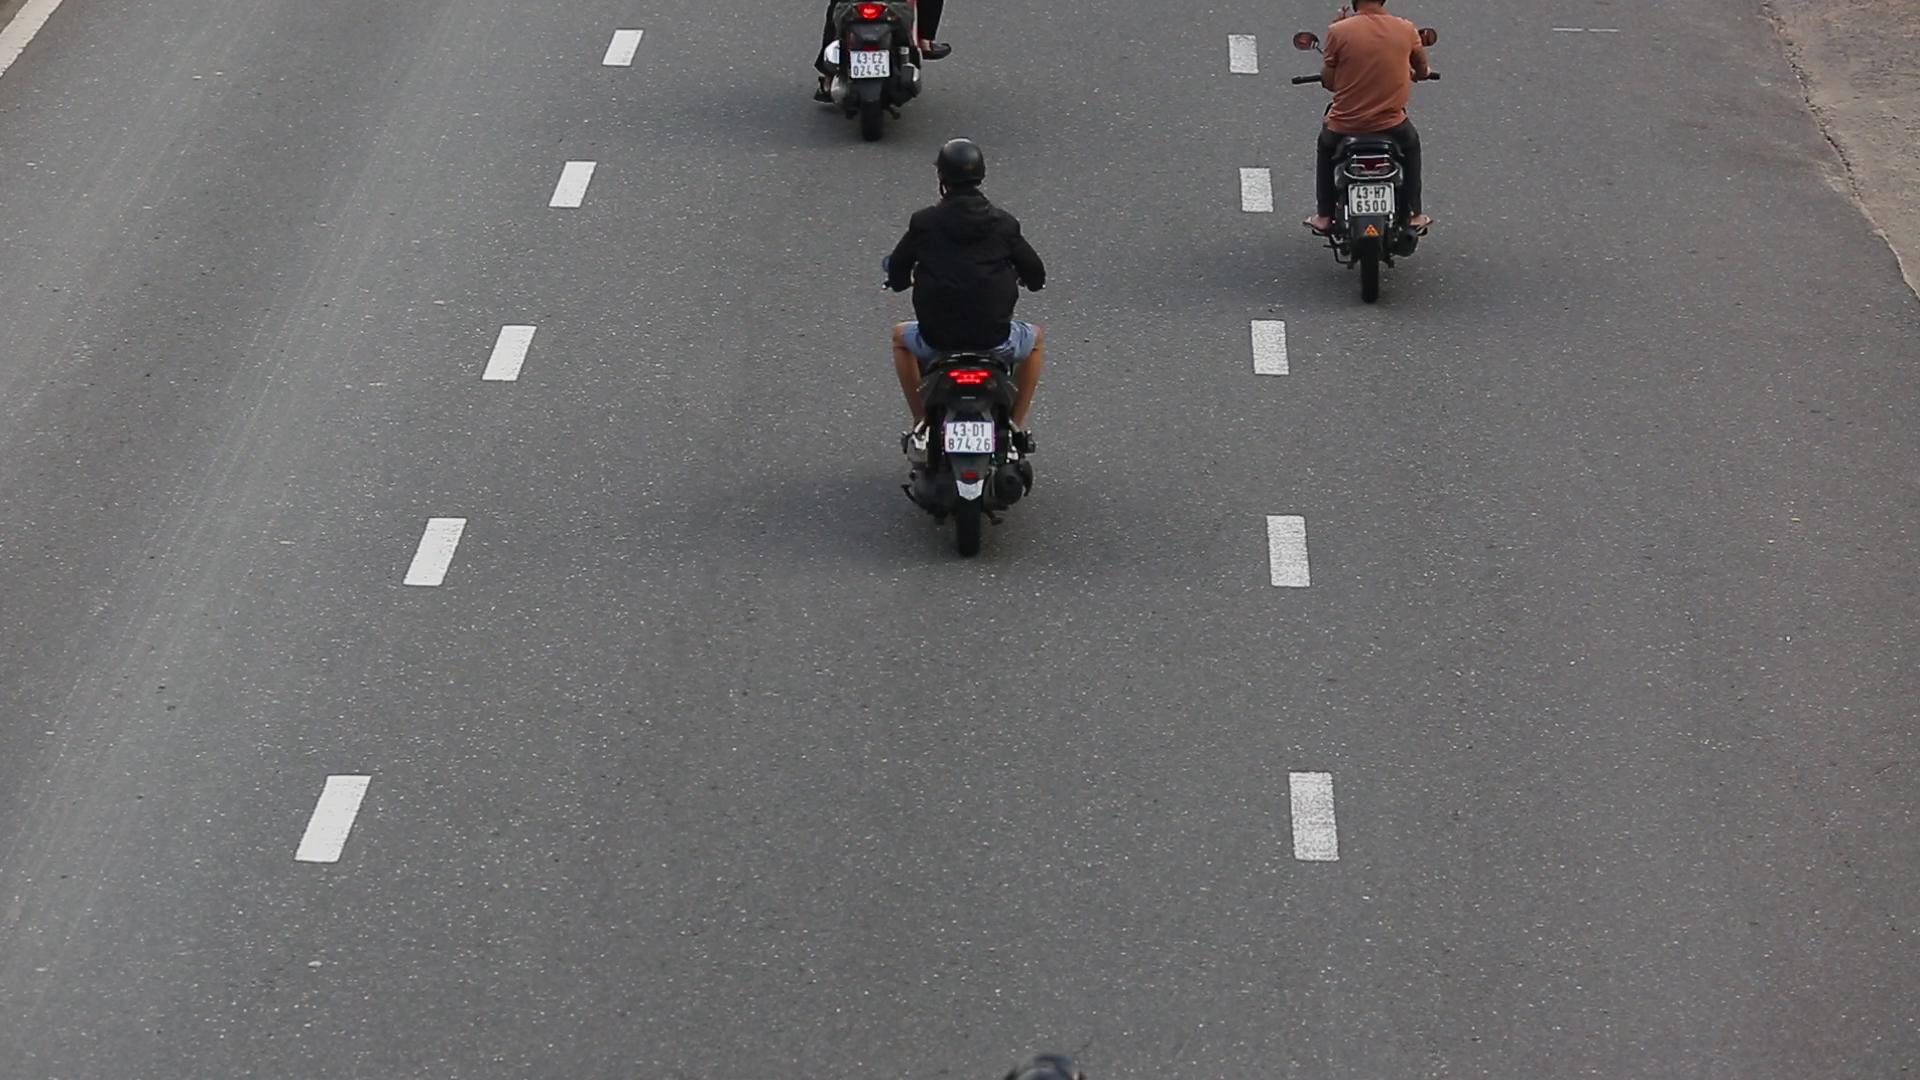motobike: (862, 123, 1092, 570)
